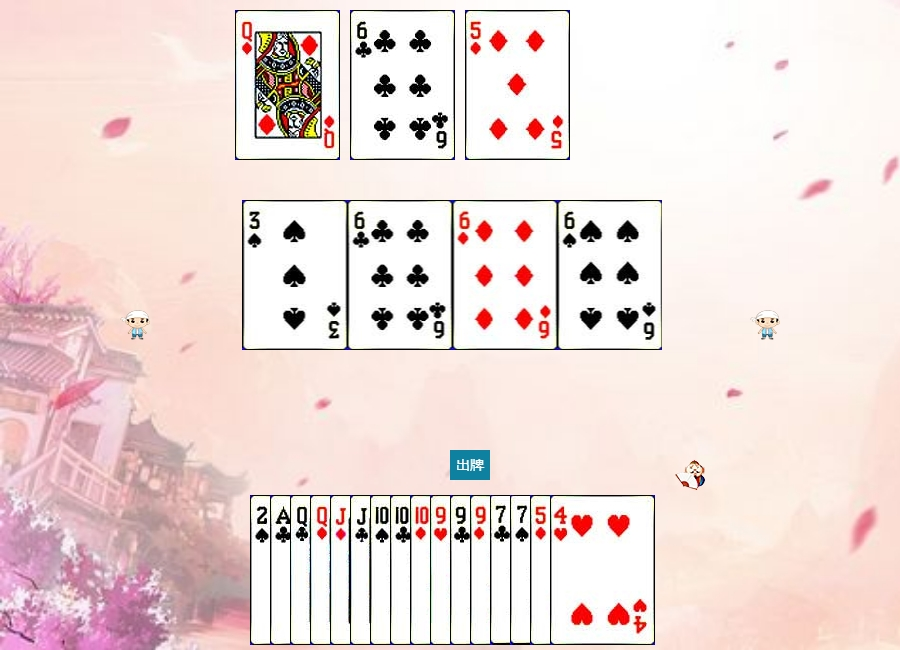10~1: (410, 495, 515, 645)
10~2: (390, 495, 495, 645)
10~4: (370, 495, 475, 645)
11~1: (330, 495, 435, 645)
11~2: (350, 495, 455, 645)
12~1: (235, 10, 340, 160), (310, 495, 415, 645)
12~2: (290, 495, 395, 645)
14~2: (270, 495, 375, 645)
15~4: (250, 495, 355, 645)
3~4: (243, 200, 348, 350)
4~3: (550, 495, 655, 645)
5~1: (465, 10, 570, 160), (530, 495, 635, 645)
6~1: (453, 200, 558, 350)
6~2: (350, 10, 455, 160), (348, 200, 453, 350)
6~4: (558, 200, 663, 350)
7~2: (490, 495, 595, 645)
7~4: (510, 495, 615, 645)
9~1: (470, 495, 575, 645)
9~2: (450, 495, 555, 645)
9~3: (430, 495, 535, 645)
